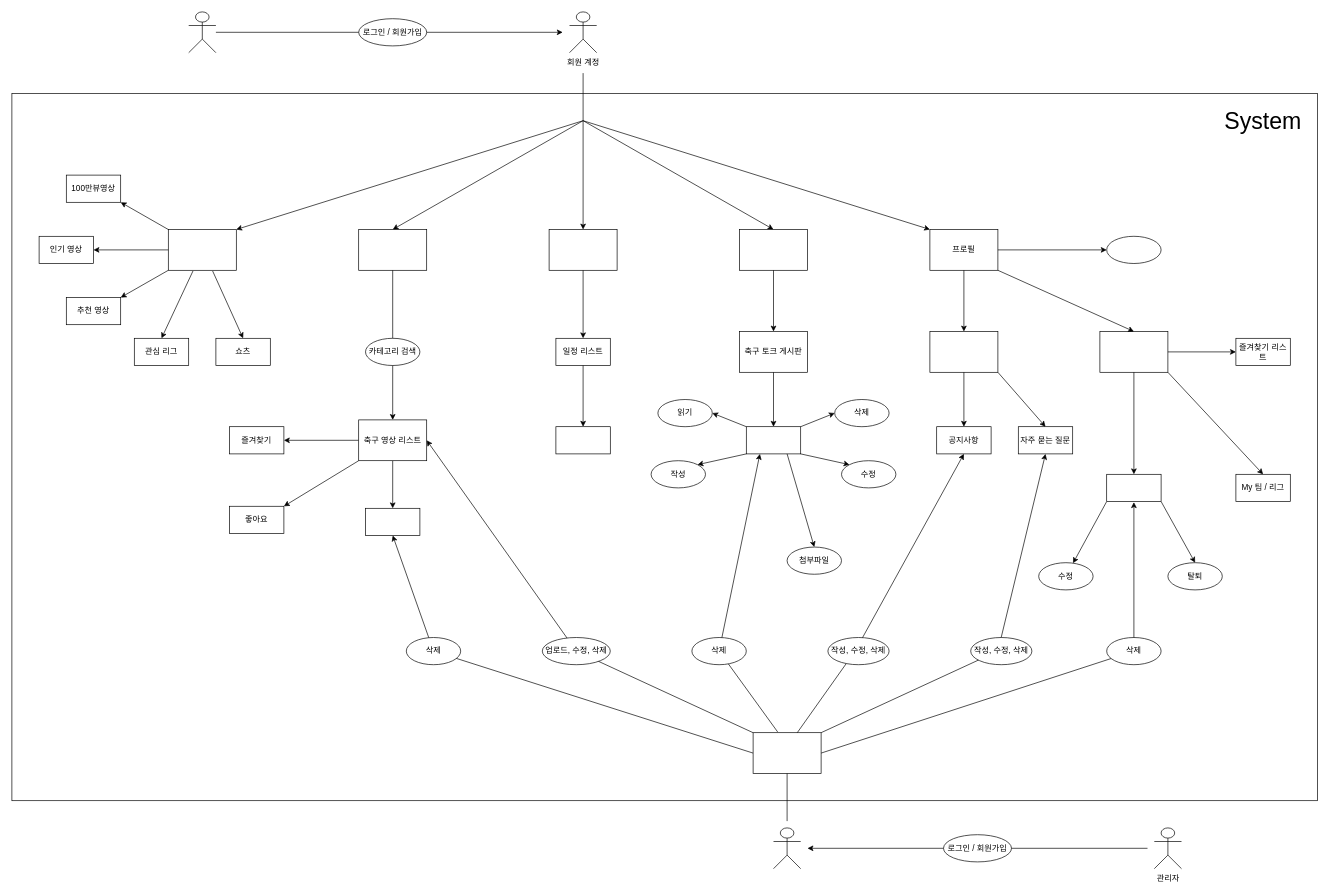
Some shapes in this 1340 by 895 pixel diagram are drawn without their labels. The centre of each missing label's shape, as x and y in pixels:
"게시글" goes at point 773,440.
"경기 일정" goes at point 582,249.
"고객센터" goes at point 963,351.
"관리자 계정" goes at point 787,848.
"관리자 페이지" goes at point 786,753.
"댓글" goes at point 392,522.
"로그아웃" goes at point 1133,250.
"마이페이지" goes at point 1133,351.
"메인페이지" goes at point 202,249.
"승부 예측" goes at point 582,440.
"이용자" goes at point 202,32.
"축구 영상" goes at point 392,249.
"커뮤니티" goes at point 773,249.
"회원 정보" goes at point 1133,488.
